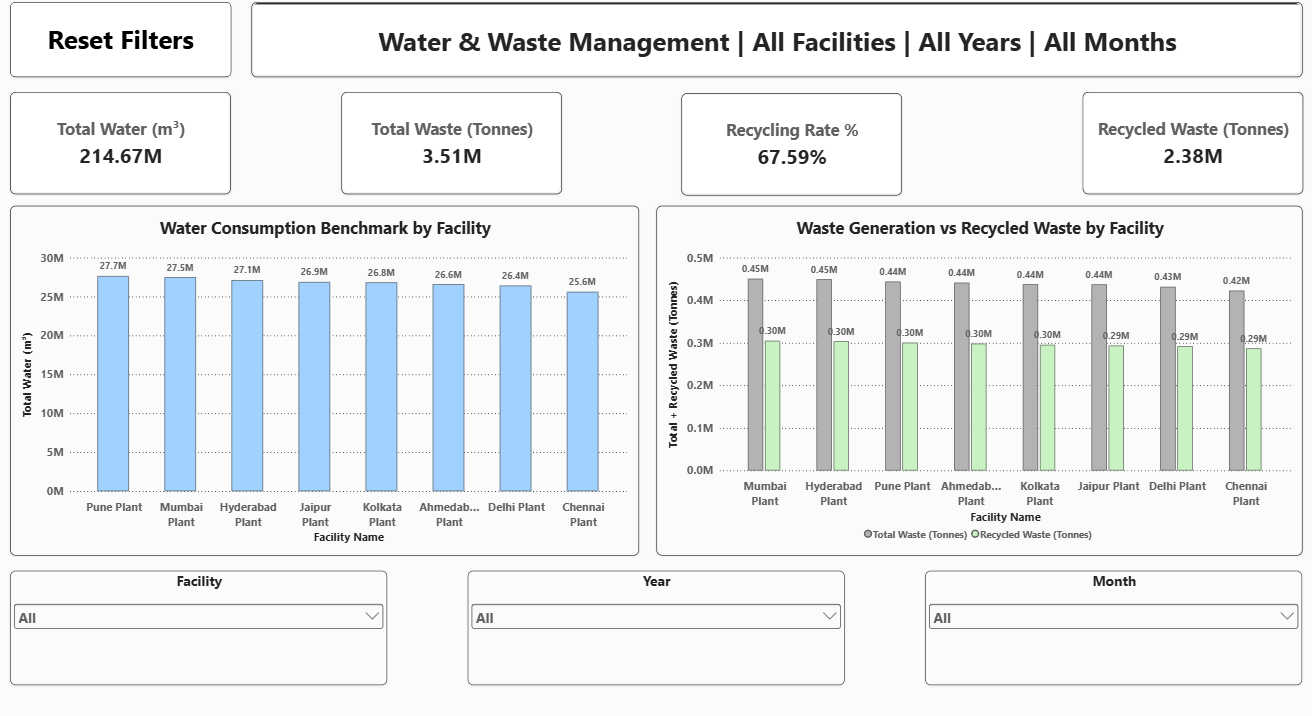

What the dashboard file says about the page in this screenshot:
{"tool":"powerbi","page":{"name":"Water & Waste Management","canvas":[1920,1080],"ordinal":2},"visuals":[{"type":"cardVisual","fields":{"Data":["Measure.Total Water (m³)"]},"box":[24.3,145.7,319.6,147.8],"z":0,"group":"g1"},{"type":"clusteredColumnChart","title":"Water Consumption Benchmark by Facility","fields":{"Category":["DimFacility.facility_name"],"Y":["Measure.Total Water (m³)"]},"box":[23.5,309.5,910.3,506.7],"z":0},{"type":"slicer","title":"Facility","fields":{"Values":["DimFacility.facility_name"]},"box":[23.8,837.9,545.7,165.2],"z":0,"group":"g2"},{"type":"cardVisual","fields":{"Data":["Measure.Water Waste Dynamic Title"]},"box":[372.8,14.5,1521.8,108.7],"z":1000},{"type":"cardVisual","fields":{"Data":["Measure.Recycled Waste (Tonnes)"]},"box":[1576.6,144.8,319.6,147.8],"z":1000,"group":"g1"},{"type":"slicer","title":"Year","fields":{"Values":["DimDate.Year"]},"box":[686.1,837.9,545.7,165.2],"z":1000,"group":"g2"},{"type":"cardVisual","fields":{"Data":["Measure.Recycling Rate %"]},"box":[995.7,146.6,319.6,147.8],"z":2000,"group":"g1"},{"type":"clusteredColumnChart","title":"Waste Generation vs Recycled Waste by Facility","fields":{"Category":["DimFacility.facility_name"],"Y":["Measure.Total Waste (Tonnes)","Measure.Recycled Waste (Tonnes)"]},"box":[959.1,309.5,935.6,506.7],"z":2000},{"type":"slicer","title":"Month","fields":{"Values":["DimDate.Month"]},"box":[1348.5,837.9,545.7,165.2],"z":2000,"group":"g2"},{"type":"actionButton","box":[23.5,14.5,320.3,108.6],"z":3000},{"type":"group","id":"g1","title":"Group 1","box":[24.3,144.8,1871.9,149.6],"z":3000,"group":"g2"},{"type":"cardVisual","fields":{"Data":["Measure.Total Waste (Tonnes)"]},"box":[503.5,144.8,319.6,147.8],"z":3000,"group":"g1"},{"type":"group","id":"g2","title":"Group 2","box":[23.8,144.8,1872.4,858.3],"z":4000}]}

Visuals, with their boxes on the page's 1920x1080 design canvas (x1, y1, x2, y2). These are canvas units, not pixel positions in the 1312x716 screenshot, which may show the page scaled, cropped or inside an application window:
cardVisual - Measure.Total Water (m³): 24/146/344/294
"Water Consumption Benchmark by Facility" clusteredColumnChart: 24/310/934/816
"Facility" slicer: 24/838/570/1003
cardVisual - Measure.Water Waste Dynamic Title: 373/14/1895/123
cardVisual - Measure.Recycled Waste (Tonnes): 1577/145/1896/293
"Year" slicer: 686/838/1232/1003
cardVisual - Measure.Recycling Rate %: 996/147/1315/294
"Waste Generation vs Recycled Waste by Facility" clusteredColumnChart: 959/310/1895/816
"Month" slicer: 1348/838/1894/1003
actionButton: 24/14/344/123
"Group 1" group: 24/145/1896/294
cardVisual - Measure.Total Waste (Tonnes): 504/145/823/293
"Group 2" group: 24/145/1896/1003
